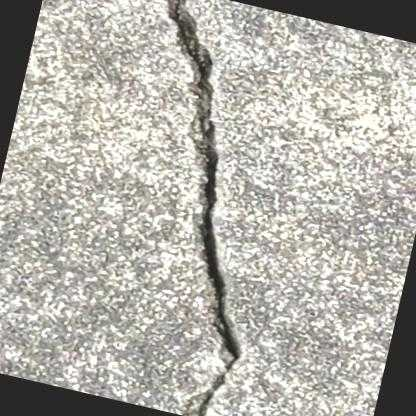crack: (166, 0, 244, 416)
